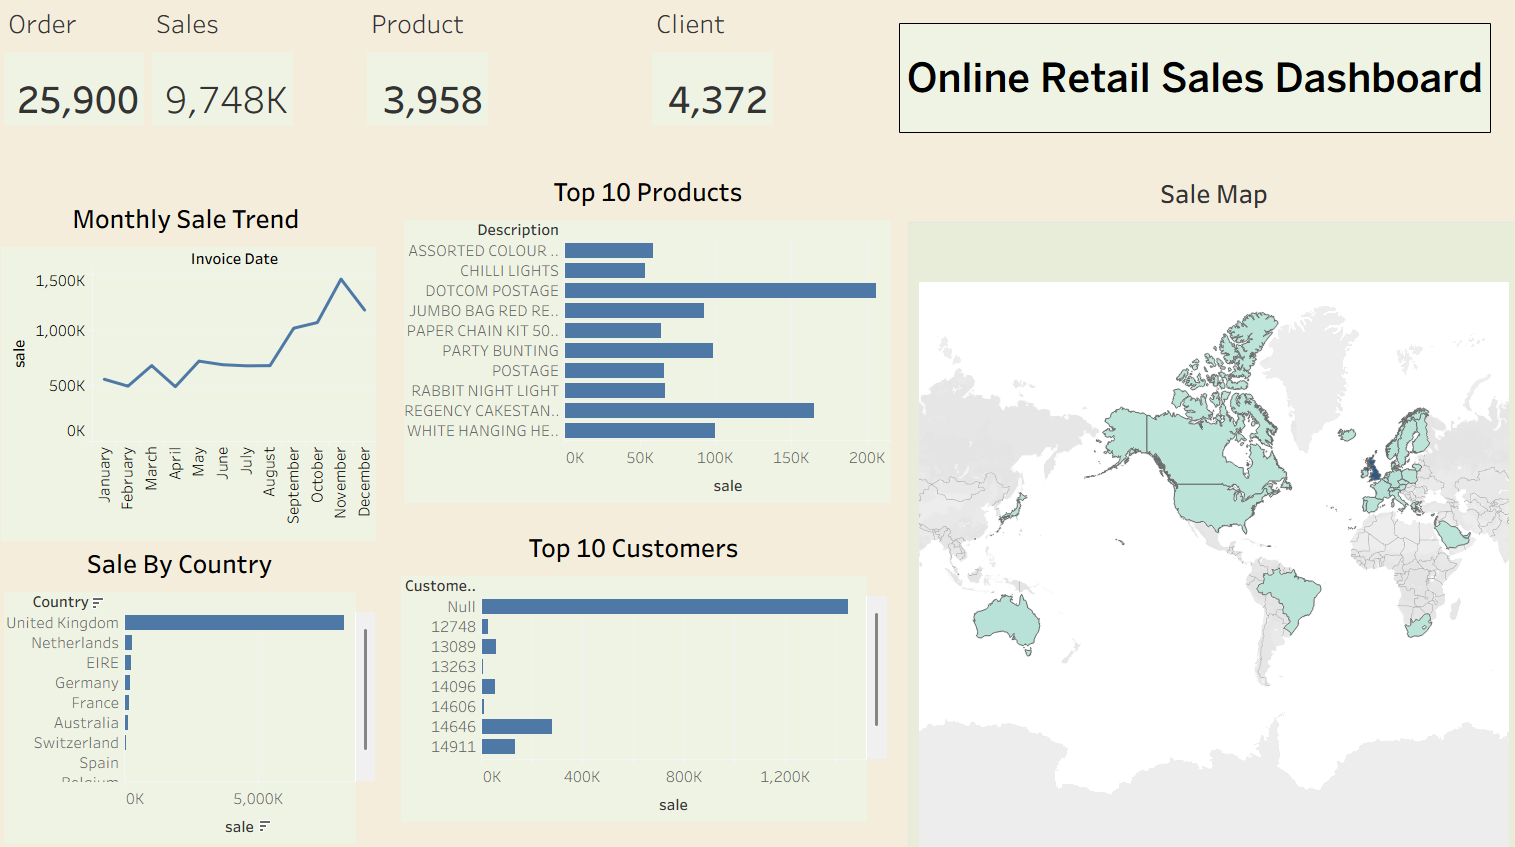

Layout of this report page (visuals, bound fields, positions):
{"tool":"tableau","page":{"name":"Online Retail Sales Dashboard","canvas":[1000,1000],"units":"permille","ordinal":1},"visuals":[{"type":"worksheet","title":"Order","mark":"Automatic","box":[0,0,97.4,1000]},{"type":"worksheet","title":"Sales","mark":"Automatic","box":[97.4,0,141.4,1000]},{"type":"worksheet","title":"Product","mark":"Automatic","box":[238.8,0,187.5,1000]},{"type":"worksheet","title":"Client","mark":"Automatic","box":[426.3,0,175.7,1000]},{"type":"text","box":[591.4,29.4,389.3,129.3]},{"type":"worksheet","title":"Top 10 Products","mark":"Automatic","rows":["Description"],"cols":["Calculation_1025038955511808"],"box":[265.6,202.1,320.7,394.8]},{"type":"worksheet","title":"Sales Trend","mark":"Automatic","rows":["Calculation_1025038955511808"],"cols":["InvoiceDate"],"box":[0.6,233.8,247,404.2]},{"type":"worksheet","title":"Top 10 Customer","mark":"Automatic","rows":["CustomerID"],"cols":["Calculation_1025038955511808"],"box":[263.8,619.3,319.5,347.8]},{"type":"worksheet","title":"Sale By Country","mark":"Automatic","rows":["Country"],"cols":["Calculation_1025038955511808"],"box":[2.4,638.1,244.6,354.9]}]}

Visuals, with their boxes on the dashboard's canvas, which has no fixed pixel size, in thousandths of its width and height (x1, y1, x2, y2). These are canvas units, not pixel positions in the 1515x847 screenshot, which may show the page scaled, cropped or inside an application window:
"Order" worksheet: box=[0, 0, 97, 1000]
"Sales" worksheet: box=[97, 0, 239, 1000]
"Product" worksheet: box=[239, 0, 426, 1000]
"Client" worksheet: box=[426, 0, 602, 1000]
text: box=[591, 29, 981, 159]
"Top 10 Products" worksheet: box=[266, 202, 586, 597]
"Sales Trend" worksheet: box=[1, 234, 248, 638]
"Top 10 Customer" worksheet: box=[264, 619, 583, 967]
"Sale By Country" worksheet: box=[2, 638, 247, 993]
